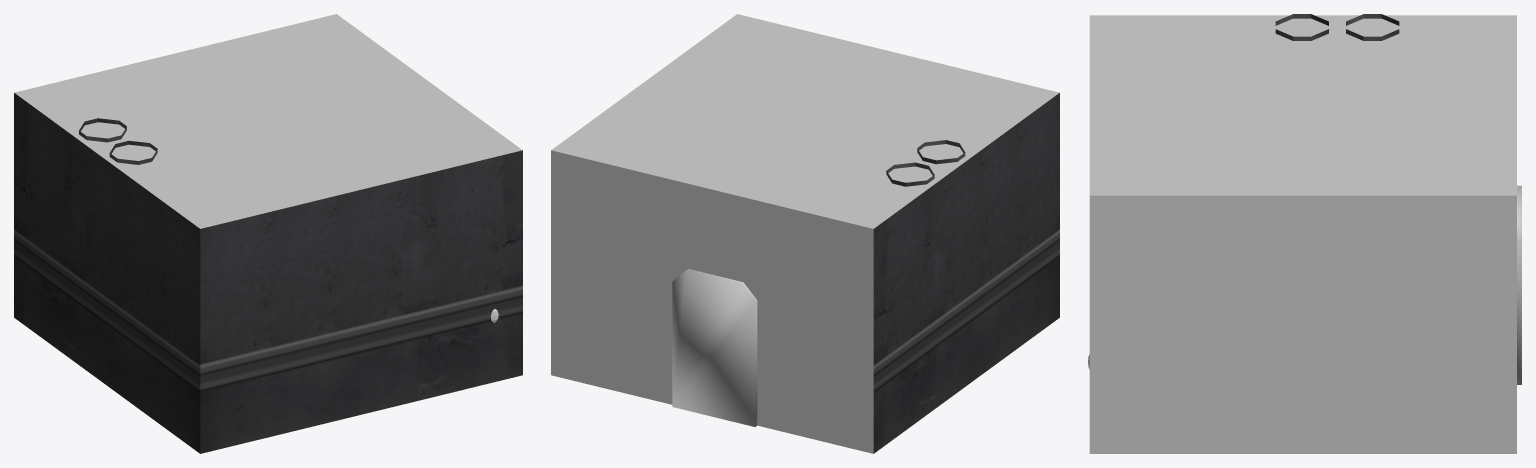
Rendered from cozyjam_env_room_engine_a_v002.fbx.
The picture shows the model from 3 angles, left to right: view 1: azimuth 30°, elevation 25°; view 2: azimuth 150°, elevation 25°; view 3: azimuth 270°, elevation 25°; orthographic projection. The views are drawn at different scales.
Parts seen in each view (by area): view 1: wall engine, ceiling engine, wall engine2; view 2: wall engine4, ceiling engine, wall engine2, door engine; view 3: wall engine3, ceiling engine, door engine, pipe2, pipe1.
Part boxes in pixels (x1,y1,x2,y2): wall engine: [200, 150, 522, 453]; ceiling engine: [14, 14, 522, 228]; wall engine2: [14, 93, 200, 453]; wall engine4: [551, 150, 873, 453]; ceiling engine: [551, 14, 1059, 228]; wall engine2: [873, 93, 1059, 453]; door engine: [672, 269, 757, 426]; wall engine3: [1089, 195, 1516, 453]; ceiling engine: [1089, 15, 1516, 195]; door engine: [1517, 185, 1521, 384]; pipe2: [1346, 14, 1399, 40]; pipe1: [1275, 14, 1328, 40].
Size of the model in its own units: 600 by 415 by 609.
